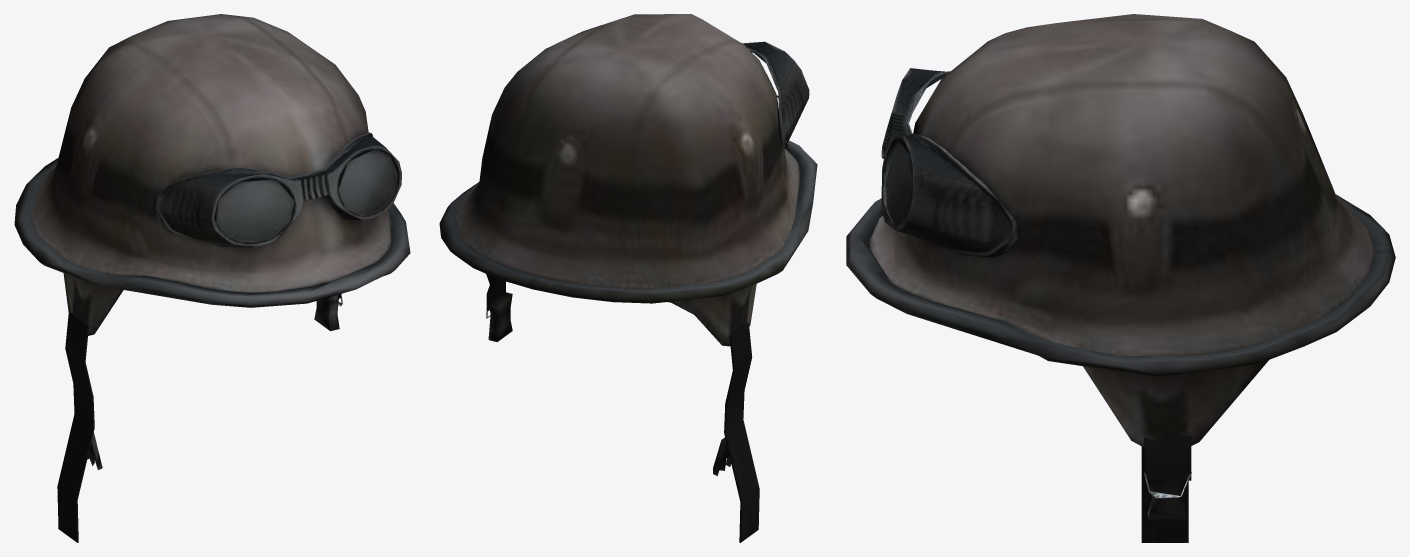
The model's file is helmet.glb.
3 views of the same model, side by side, from view 1: azimuth 30°, elevation 25°; view 2: azimuth 150°, elevation 25°; view 3: azimuth 270°, elevation 25° (orthographic). The views are drawn at different scales.
Parts seen in each view (by area): view 1: Object_2; view 2: Object_2; view 3: Object_2.
Boxes of the visible parts, box(x1,y1,x2,y2) form: Object_2: box(14, 14, 410, 542); Object_2: box(439, 14, 817, 542); Object_2: box(846, 14, 1395, 542).
Bounding box in the file's own units: 0.2225 × 0.3 × 0.2562.
Materials: 1 (1 with a texture image).
